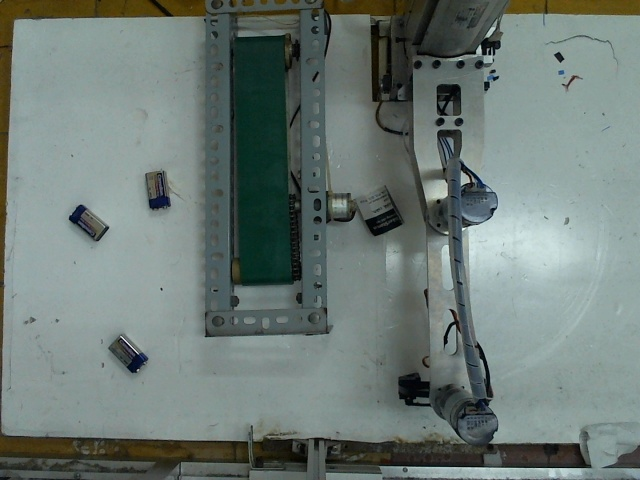battery: (103, 336, 148, 374), (68, 206, 110, 244), (144, 168, 176, 215)
